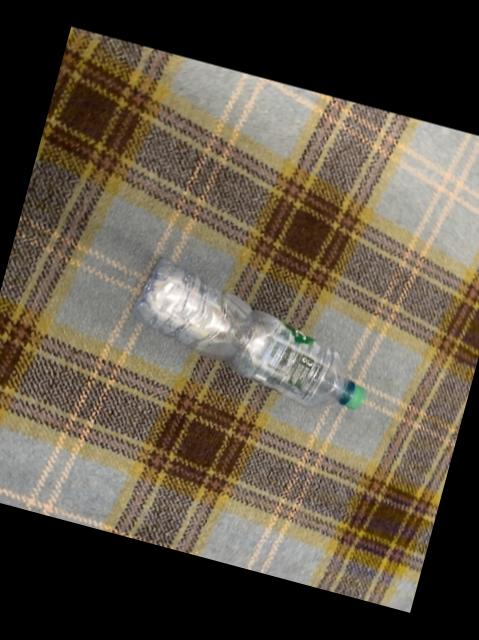plastic: (132, 258, 364, 408)
